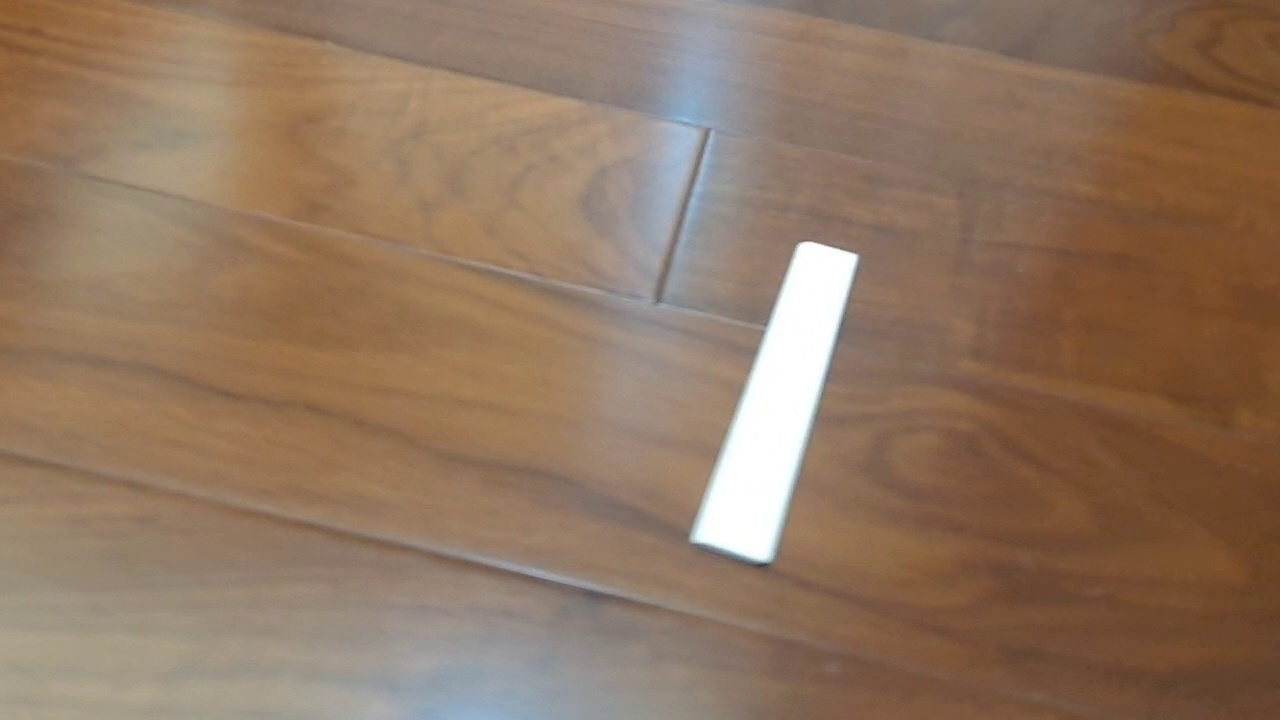ruler: (686, 239, 861, 567)
